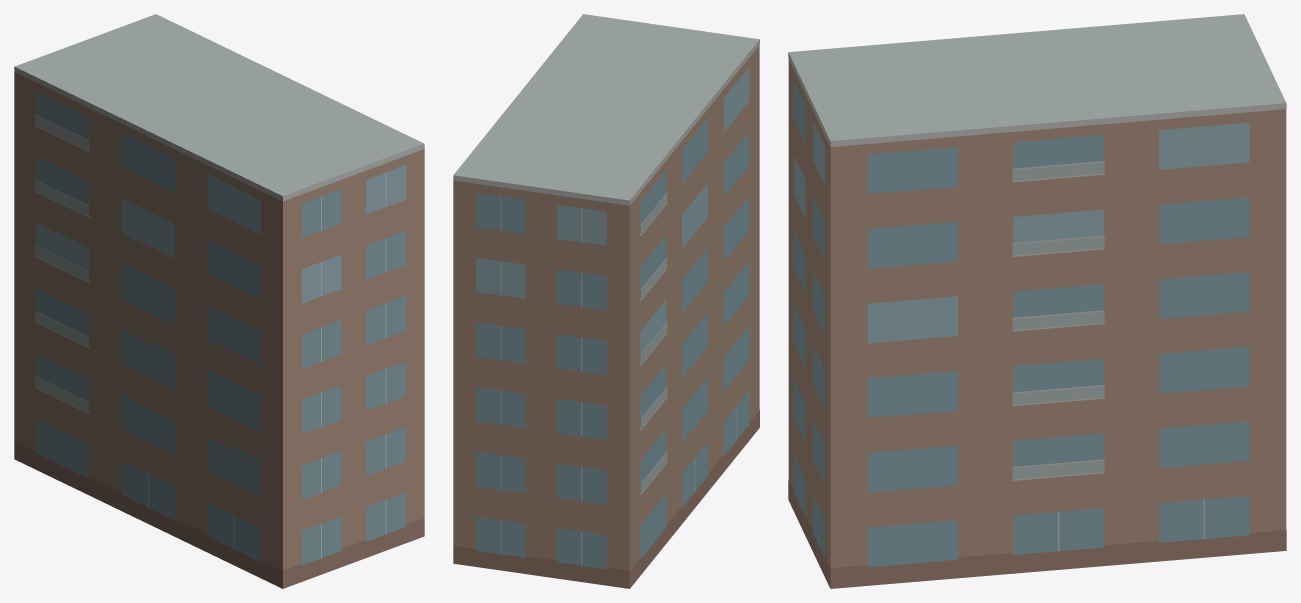
The model's file is survey-upis-32503915.glb.
The picture shows the model from 3 angles, left to right: view 1: azimuth 30°, elevation 25°; view 2: azimuth 150°, elevation 25°; view 3: azimuth 270°, elevation 25°; orthographic projection. The views are drawn at different scales.
Visible parts, largest first — view 1: survey-upis-32503915.tmp; view 2: survey-upis-32503915.tmp; view 3: survey-upis-32503915.tmp.
Part boxes in pixels (x1=…): survey-upis-32503915.tmp: x1=14, y1=14, x2=424, y2=588; survey-upis-32503915.tmp: x1=453, y1=14, x2=759, y2=588; survey-upis-32503915.tmp: x1=788, y1=14, x2=1286, y2=588.
Bounding box in the file's own units: 11.16 × 18.3 × 18.46.
